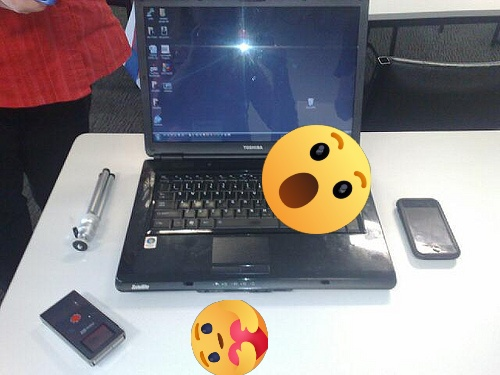care: (191, 300, 268, 375)
wow: (262, 125, 371, 234)
